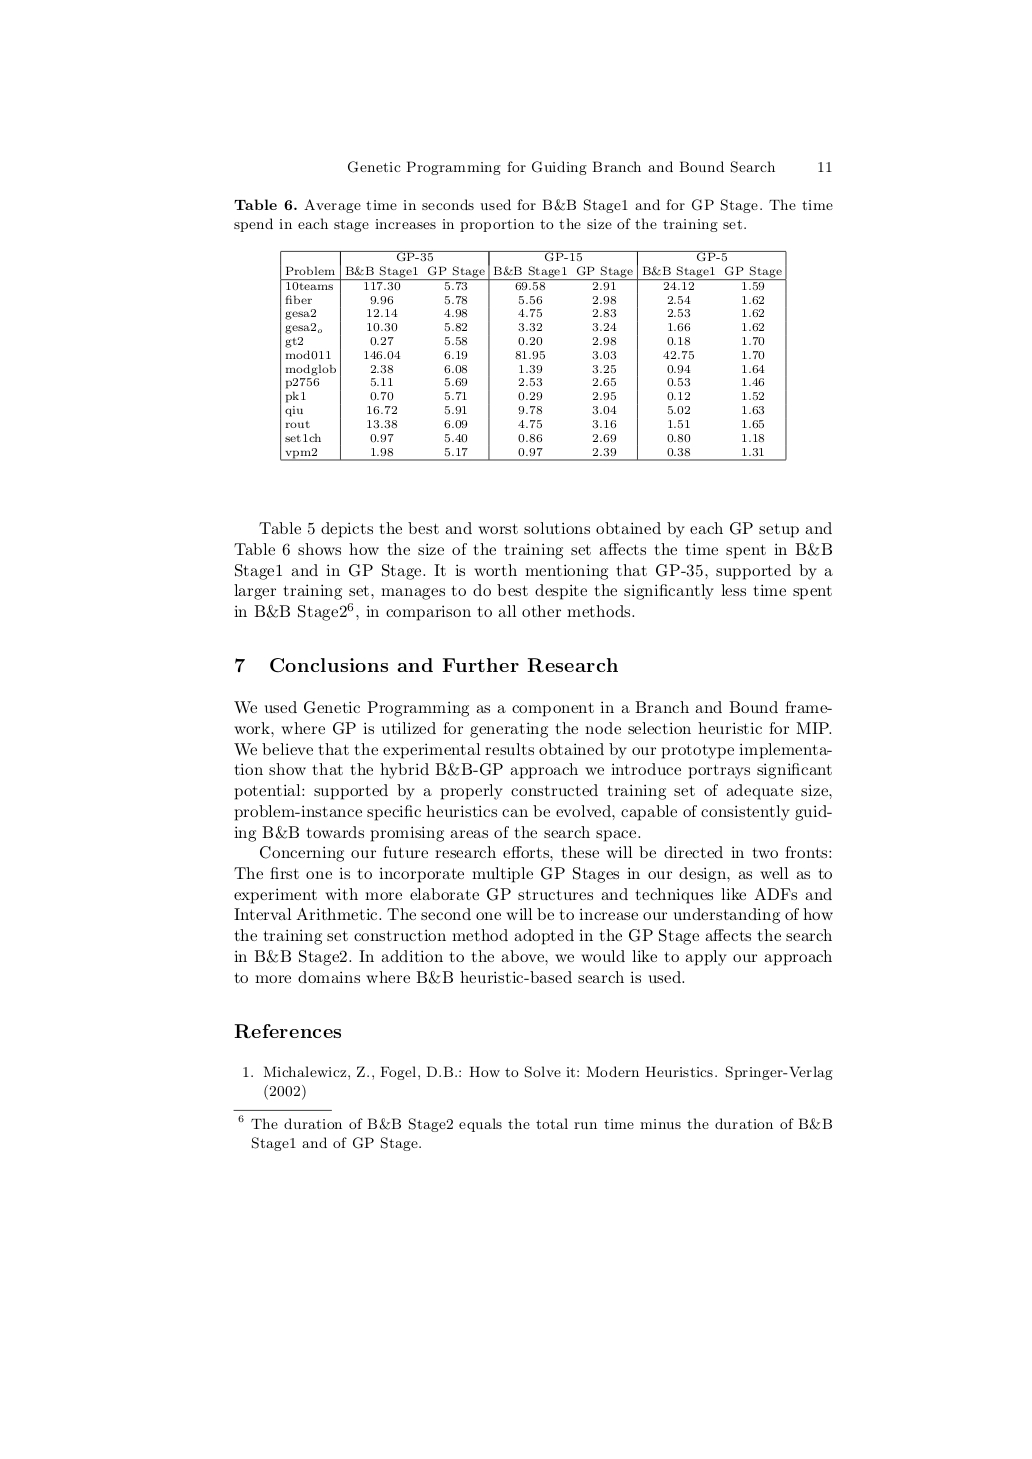Table: (280, 249, 786, 461)
figure: (233, 1108, 331, 1111)
